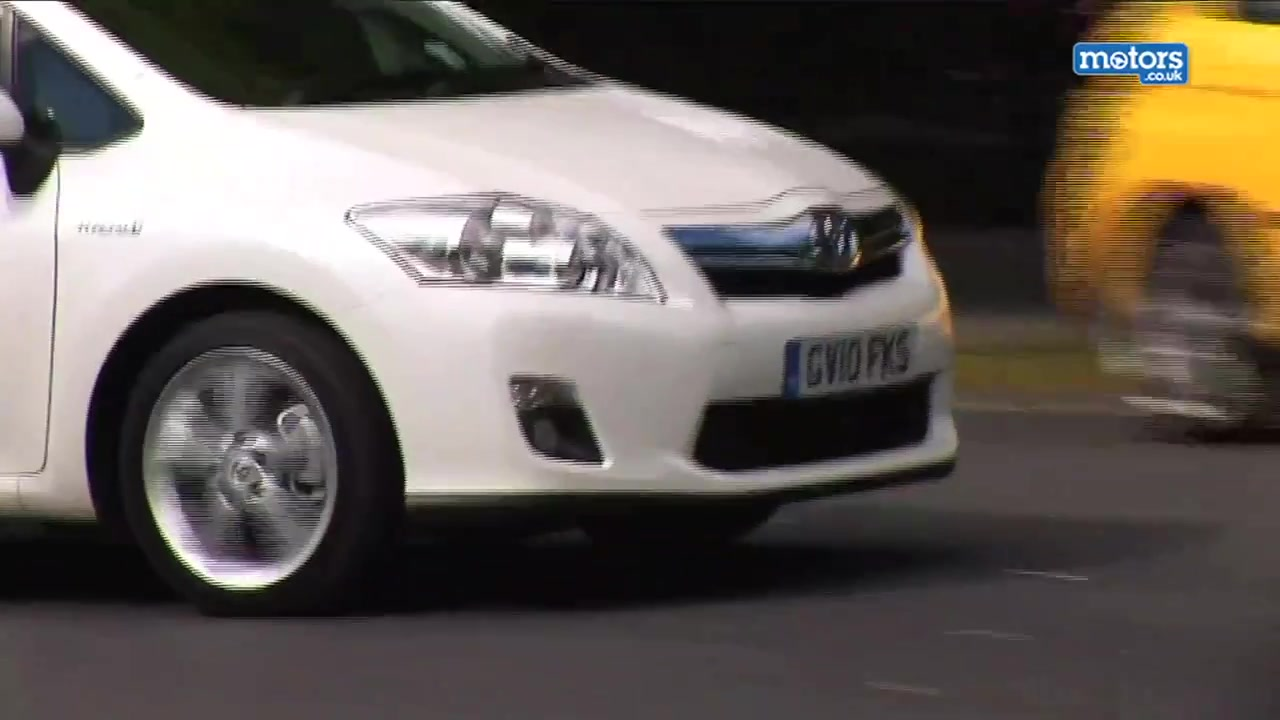car: (3, 1, 954, 625), (1054, 1, 1280, 445)
